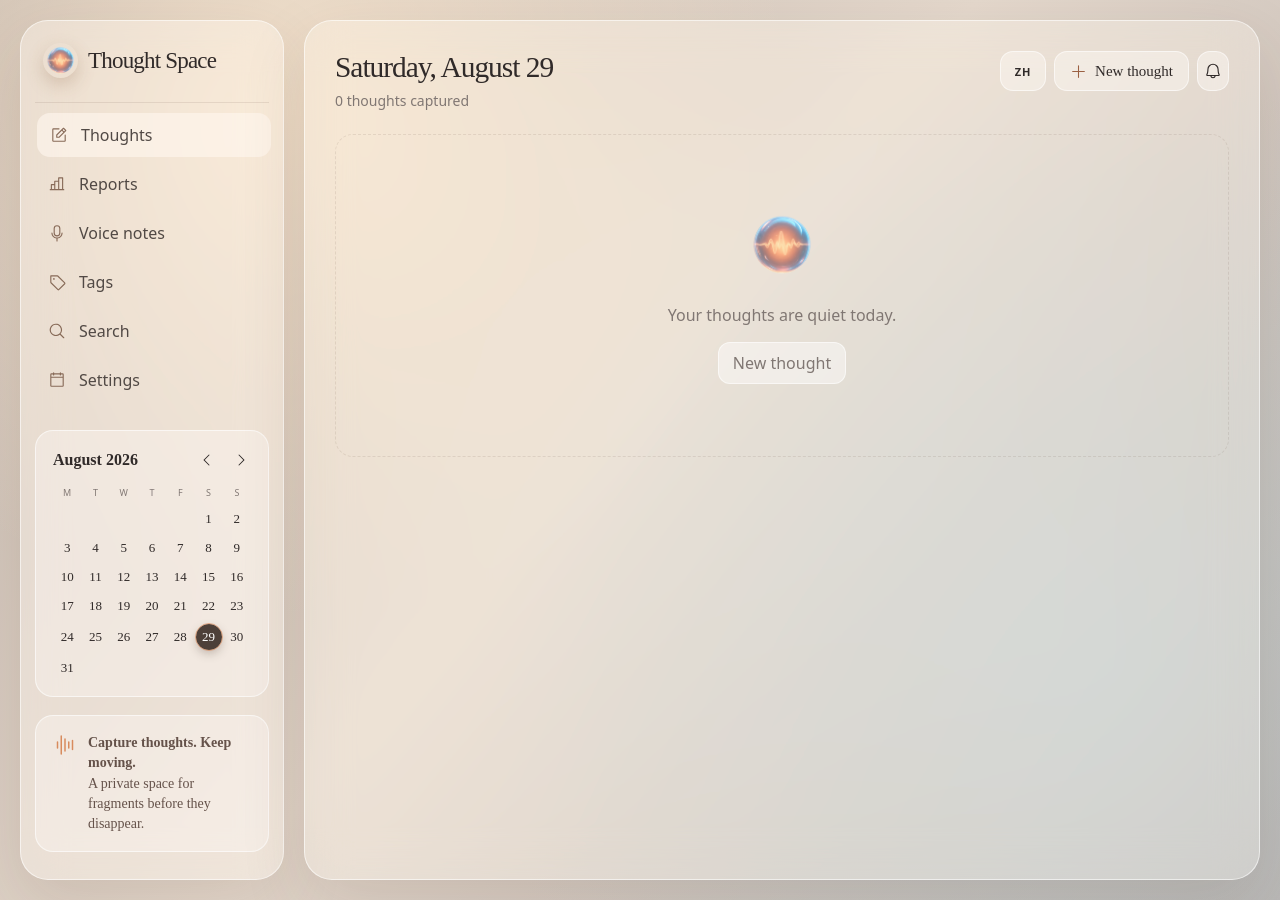
Test: search and tags › searches historical thoughts and reports without navigating to Thoughts
Click the button "Search". click: point(152, 331)
box: [35, 309, 269, 353]
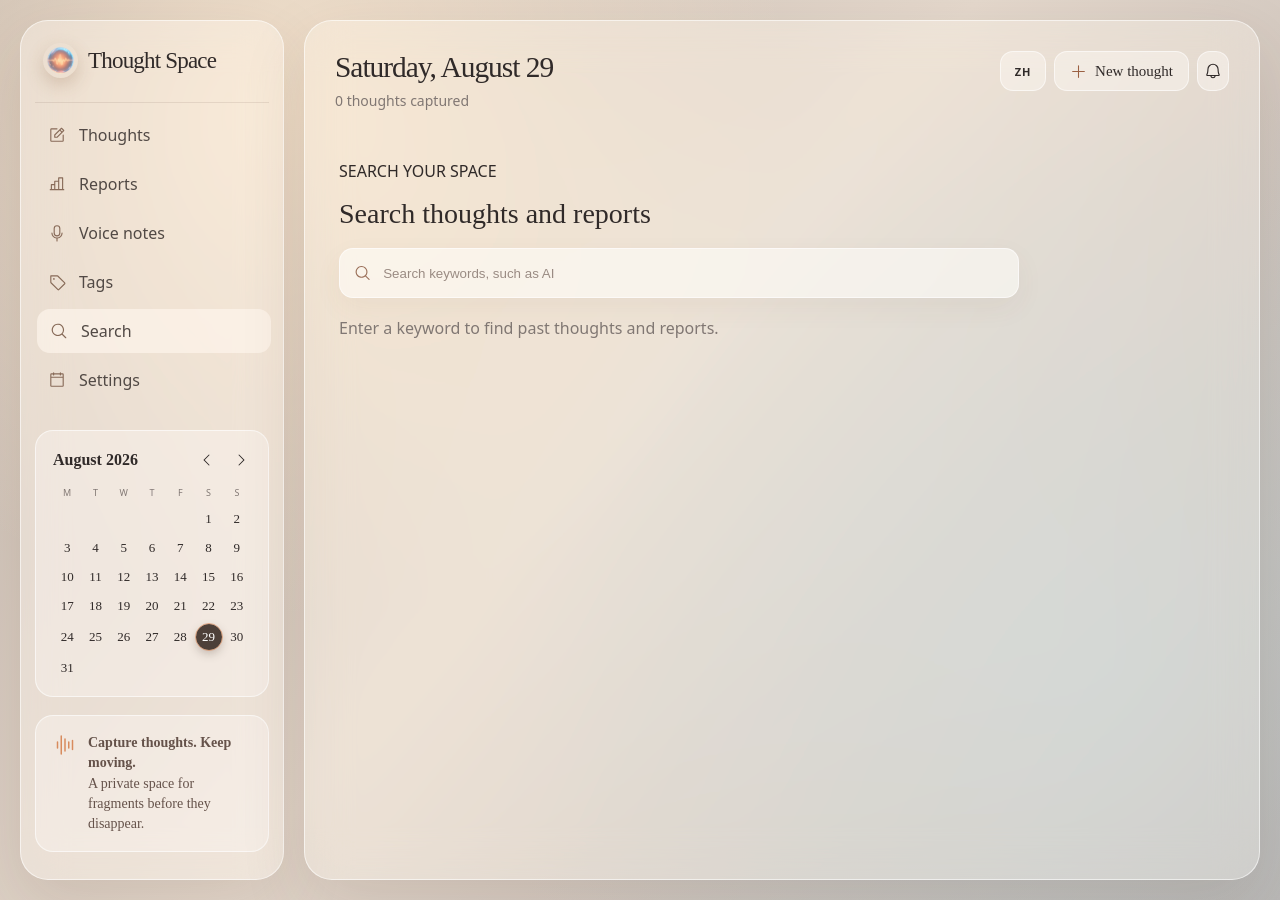
Type "ai" into the search field. click: point(693, 273)
box: [381, 249, 1004, 297]
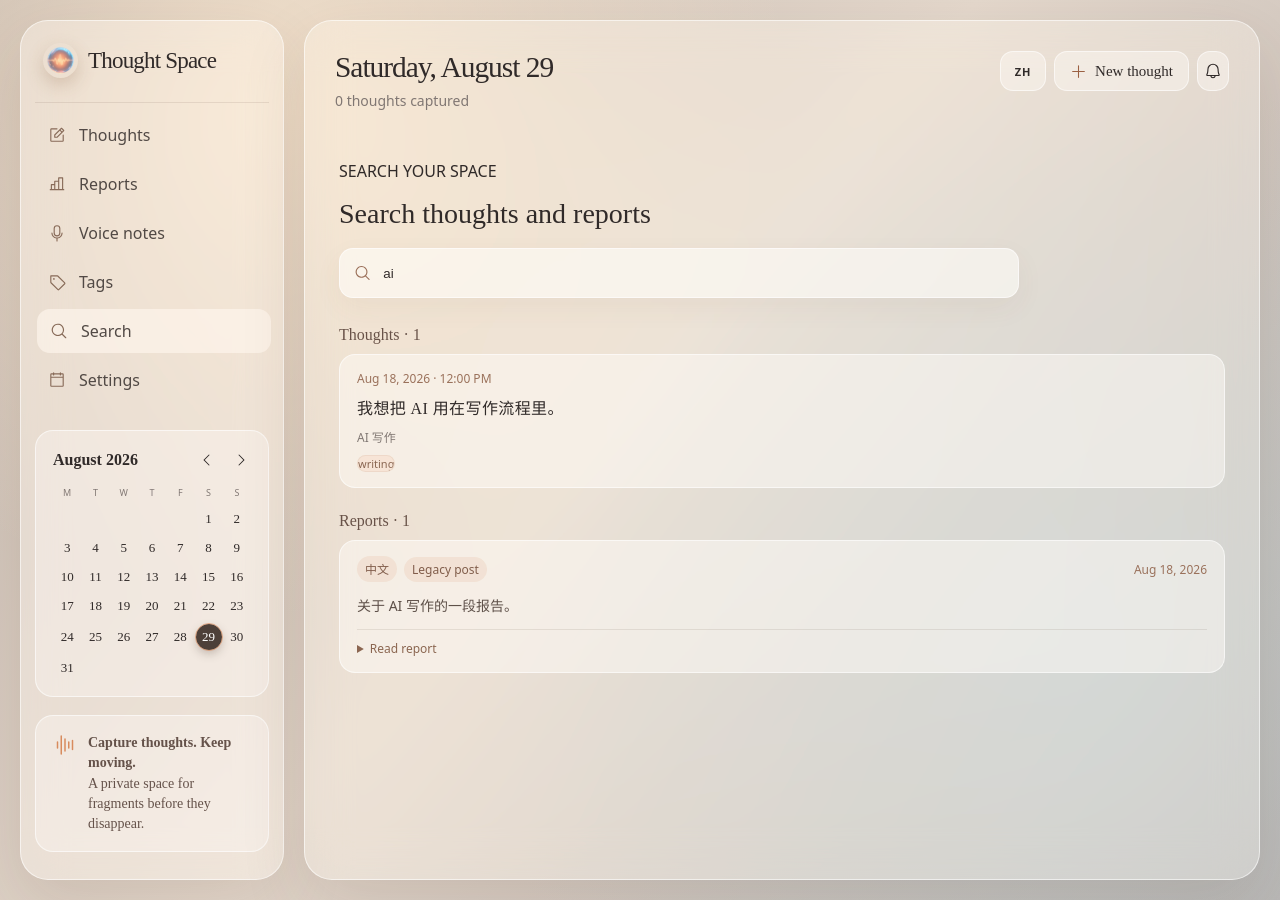
Expected: the text "我想把 AI 用在写作流程里。" is shown, [357, 400, 564, 417]
Expected: the text "关于 AI 写作的一段报告。" is shown, [357, 596, 518, 615]
